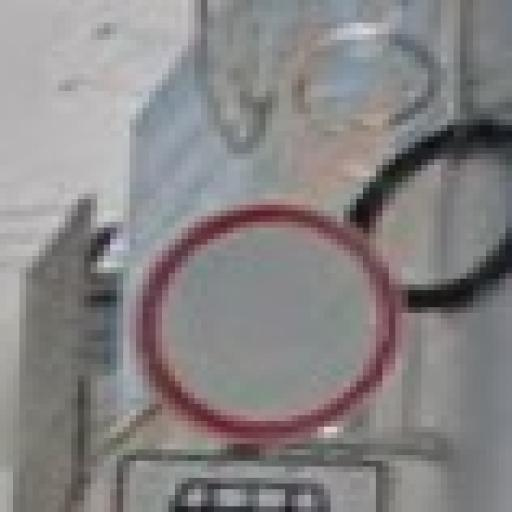traffic_sign: (137, 200, 403, 439)
